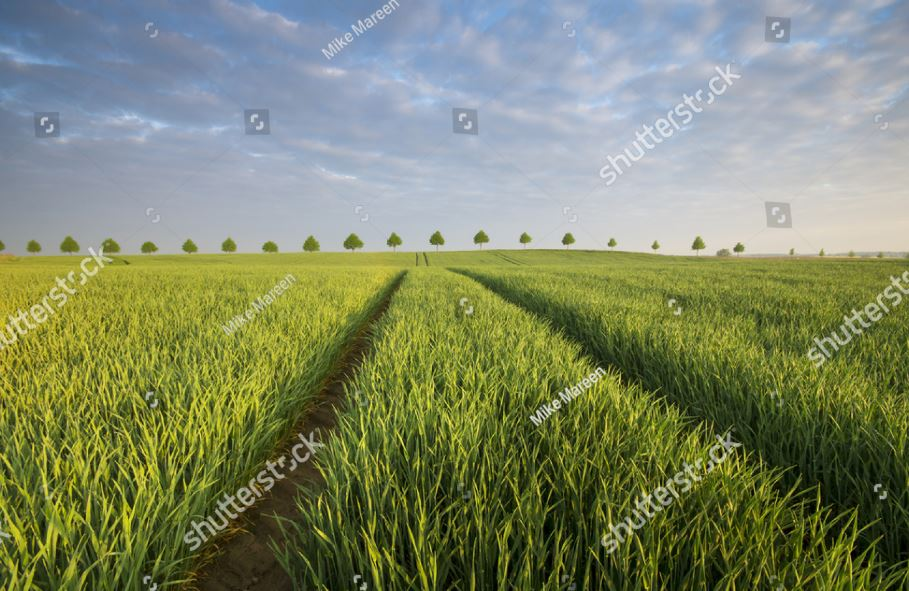Wheat: (361, 358, 595, 591)
